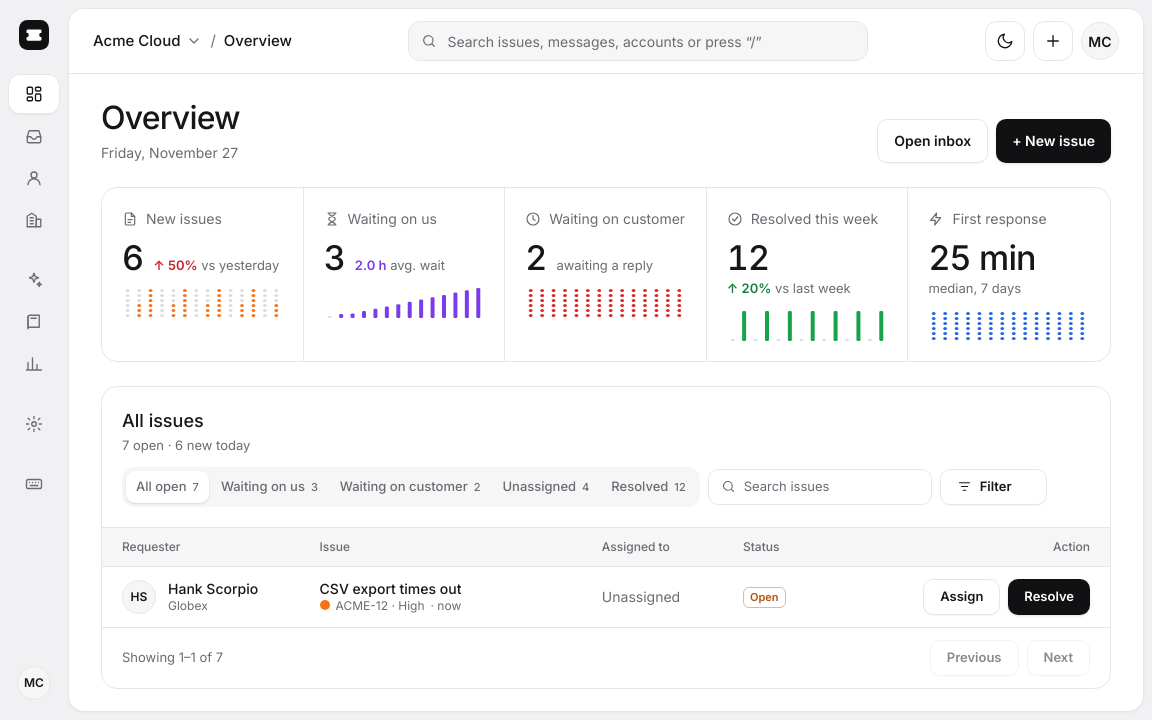
Test: Overview (design v2) › tabs, search and the priority filter drive the query
This screenshot has width=1152, height=720.
Step 1. Click the button "Waiting on us 3" → click(269, 487), box x1=211 y1=471 x2=328 y2=502
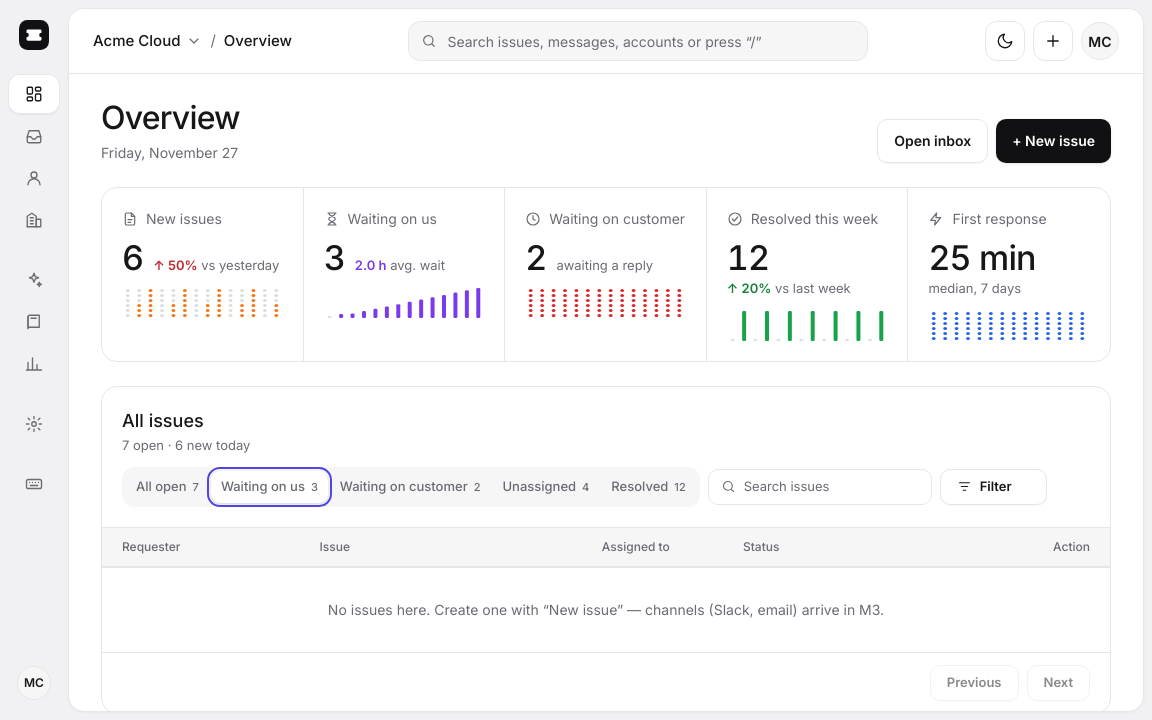
Result: the text "No issues here" is shown at x1=328 y1=600 x2=884 y2=618
Step 2. Select "Urgent" in the dropdown named "Filter by priority" → (1005, 487), box x1=980 y1=477 x2=1030 y2=496
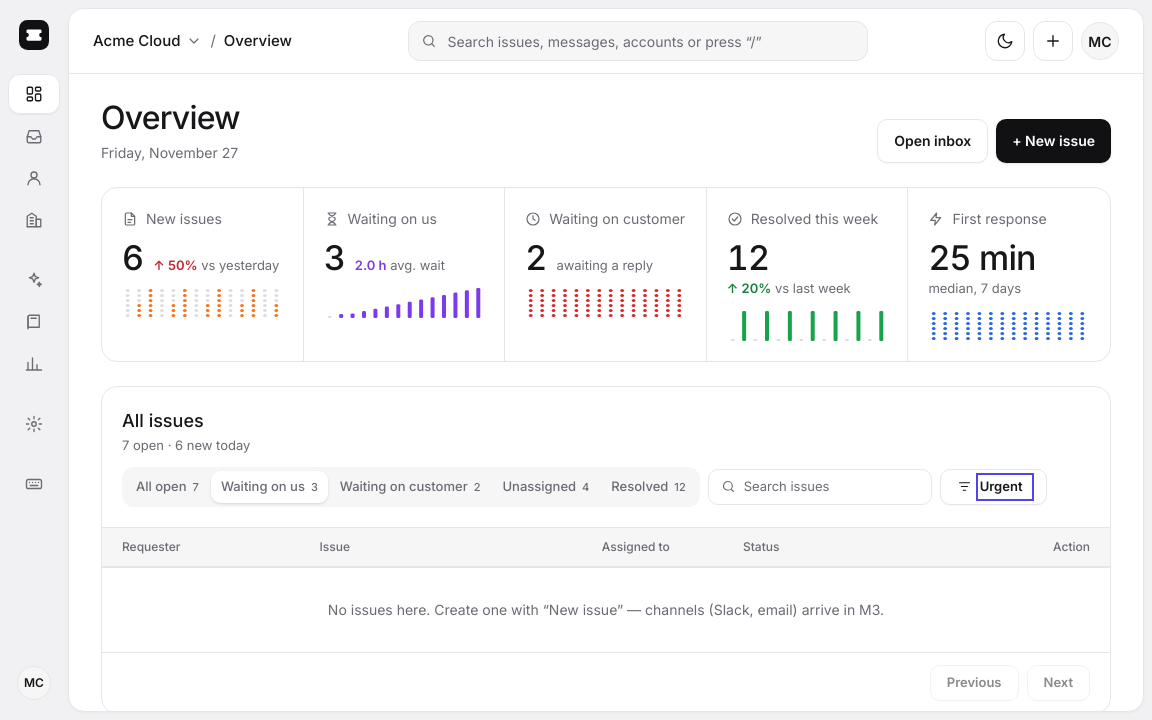
Step 3. Type "csv" into the search field labelled "Search issues" → (831, 487), box x1=744 y1=477 x2=919 y2=496
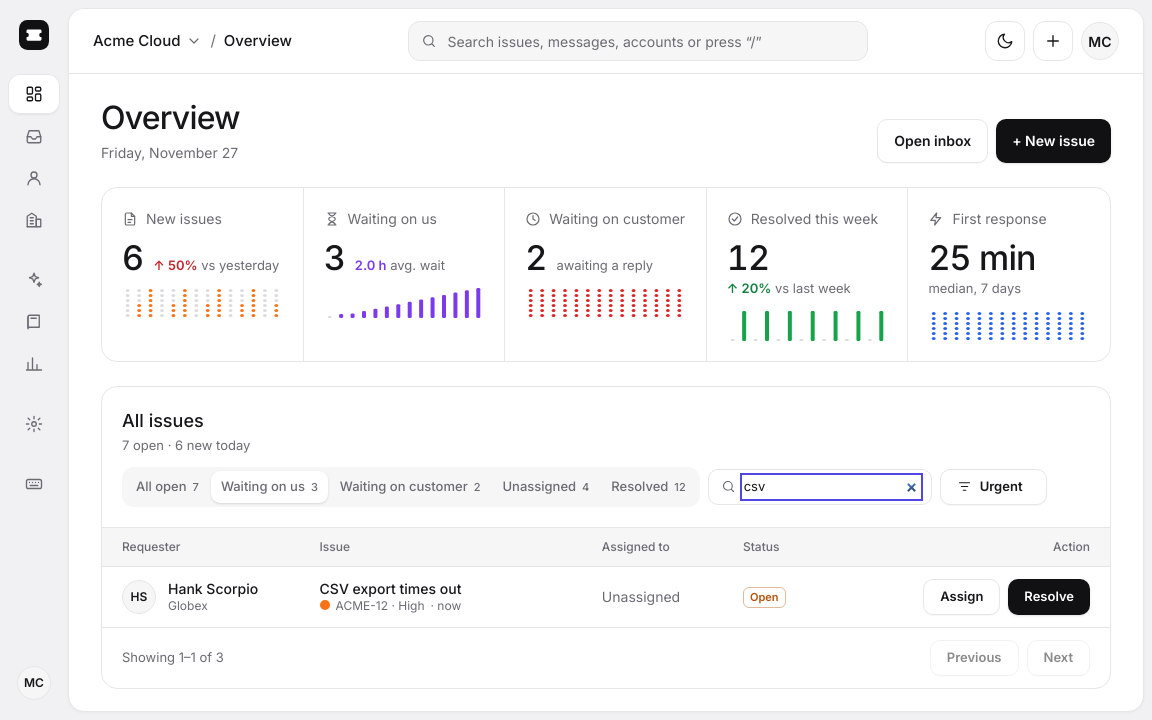
Result: the text "CSV export times out" is shown at x1=320 y1=580 x2=461 y2=597
